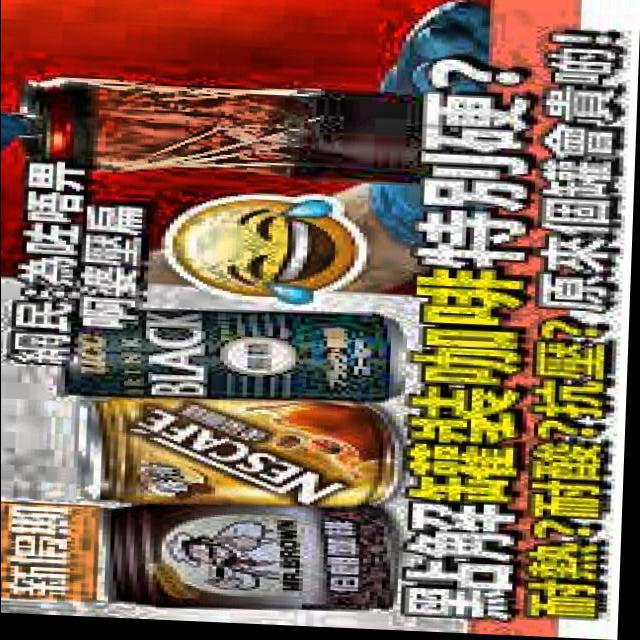Aluminum Can: (72, 393, 409, 522), (44, 298, 413, 415), (95, 495, 412, 622)
